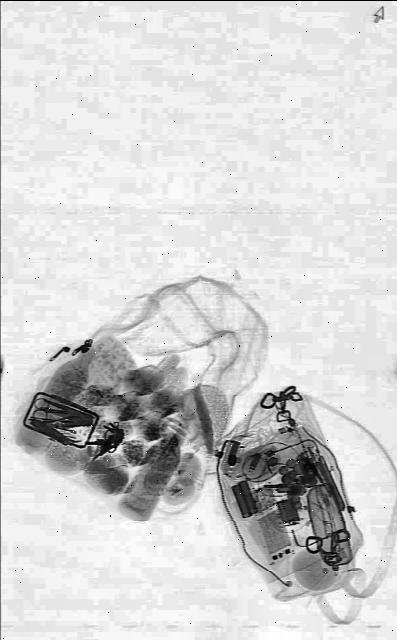Scissors: (32, 394, 70, 428)
